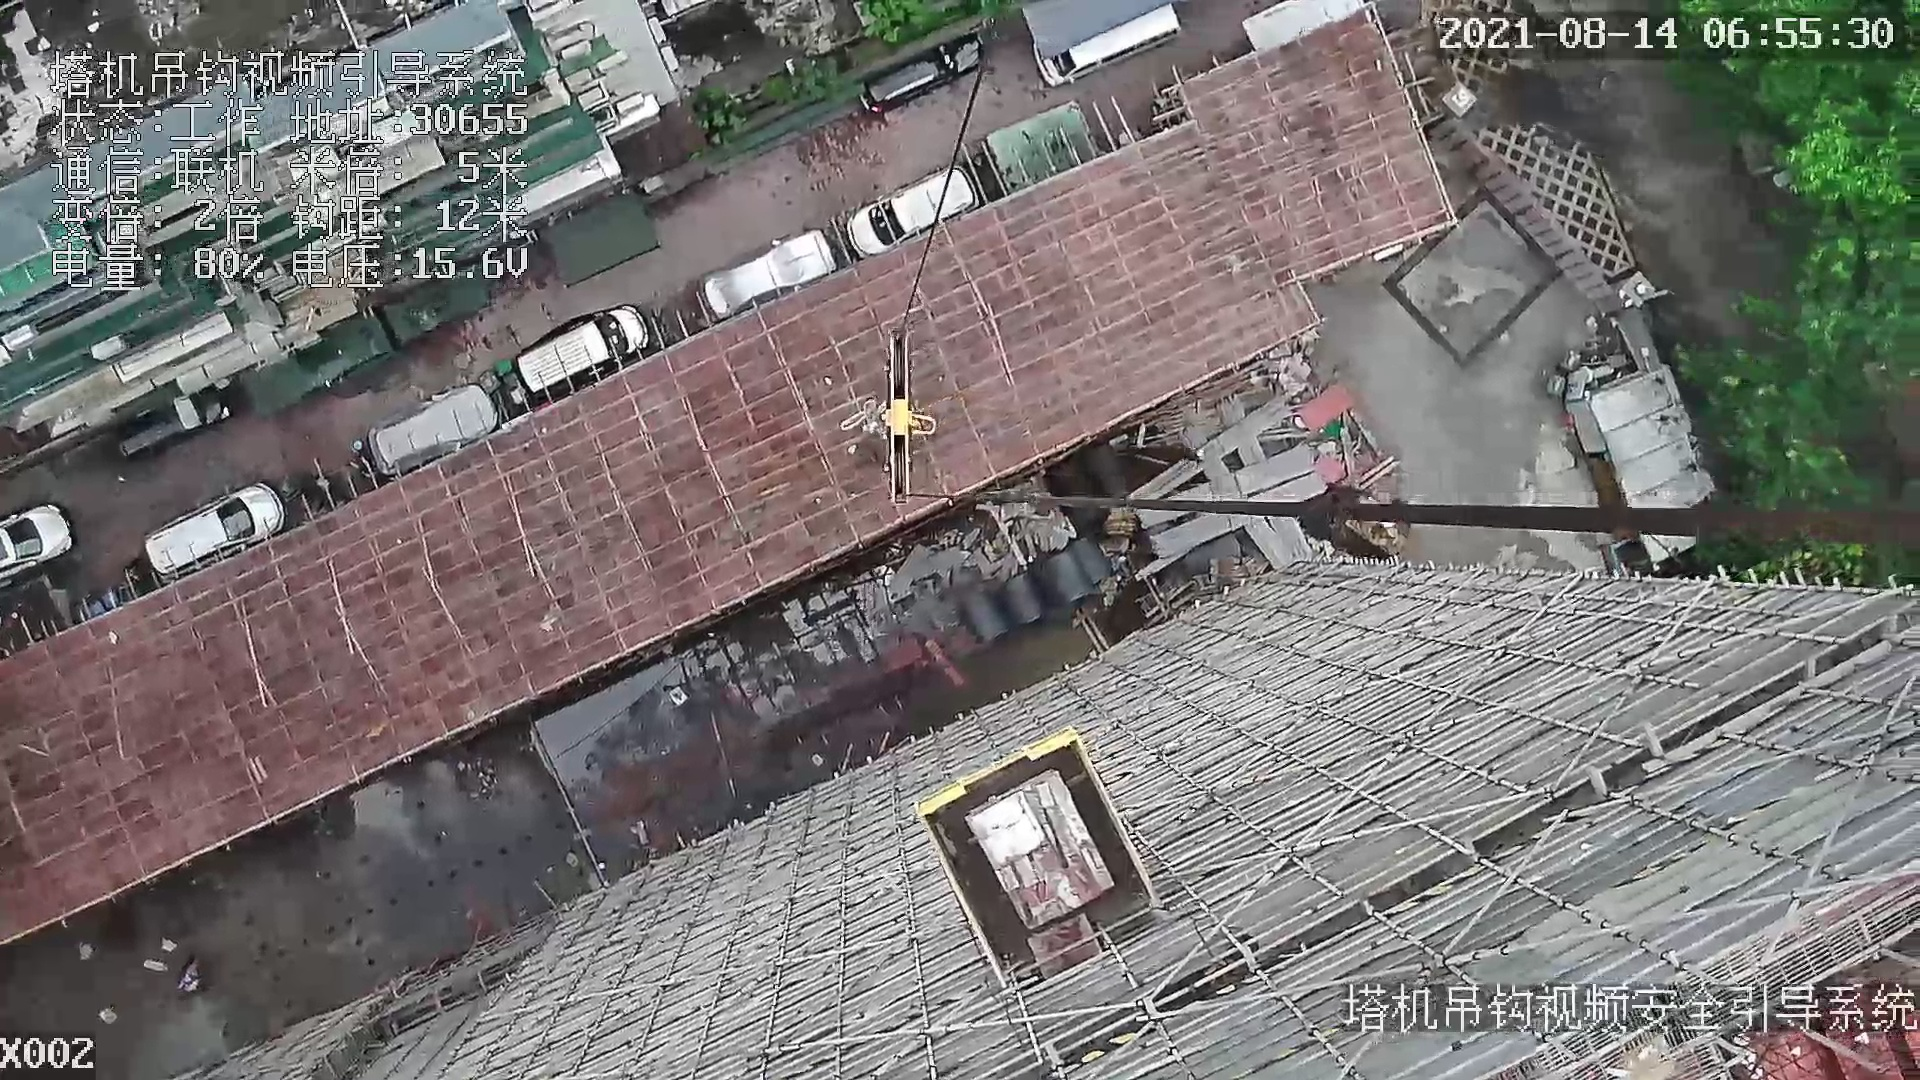board: (963, 770, 1116, 934)
hook: (880, 323, 938, 509)
rebar: (1131, 397, 1292, 498), (1171, 442, 1316, 498), (1151, 514, 1263, 559), (1246, 520, 1292, 564), (1271, 516, 1312, 560)
